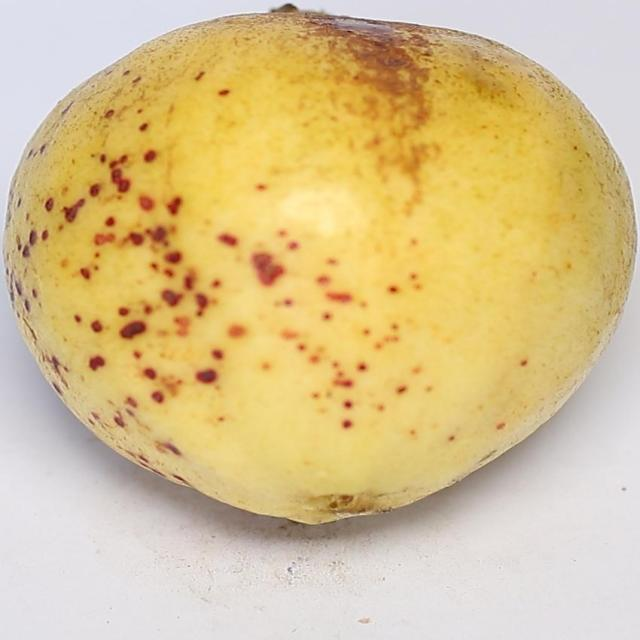Good_Guava: (2, 7, 637, 528)
